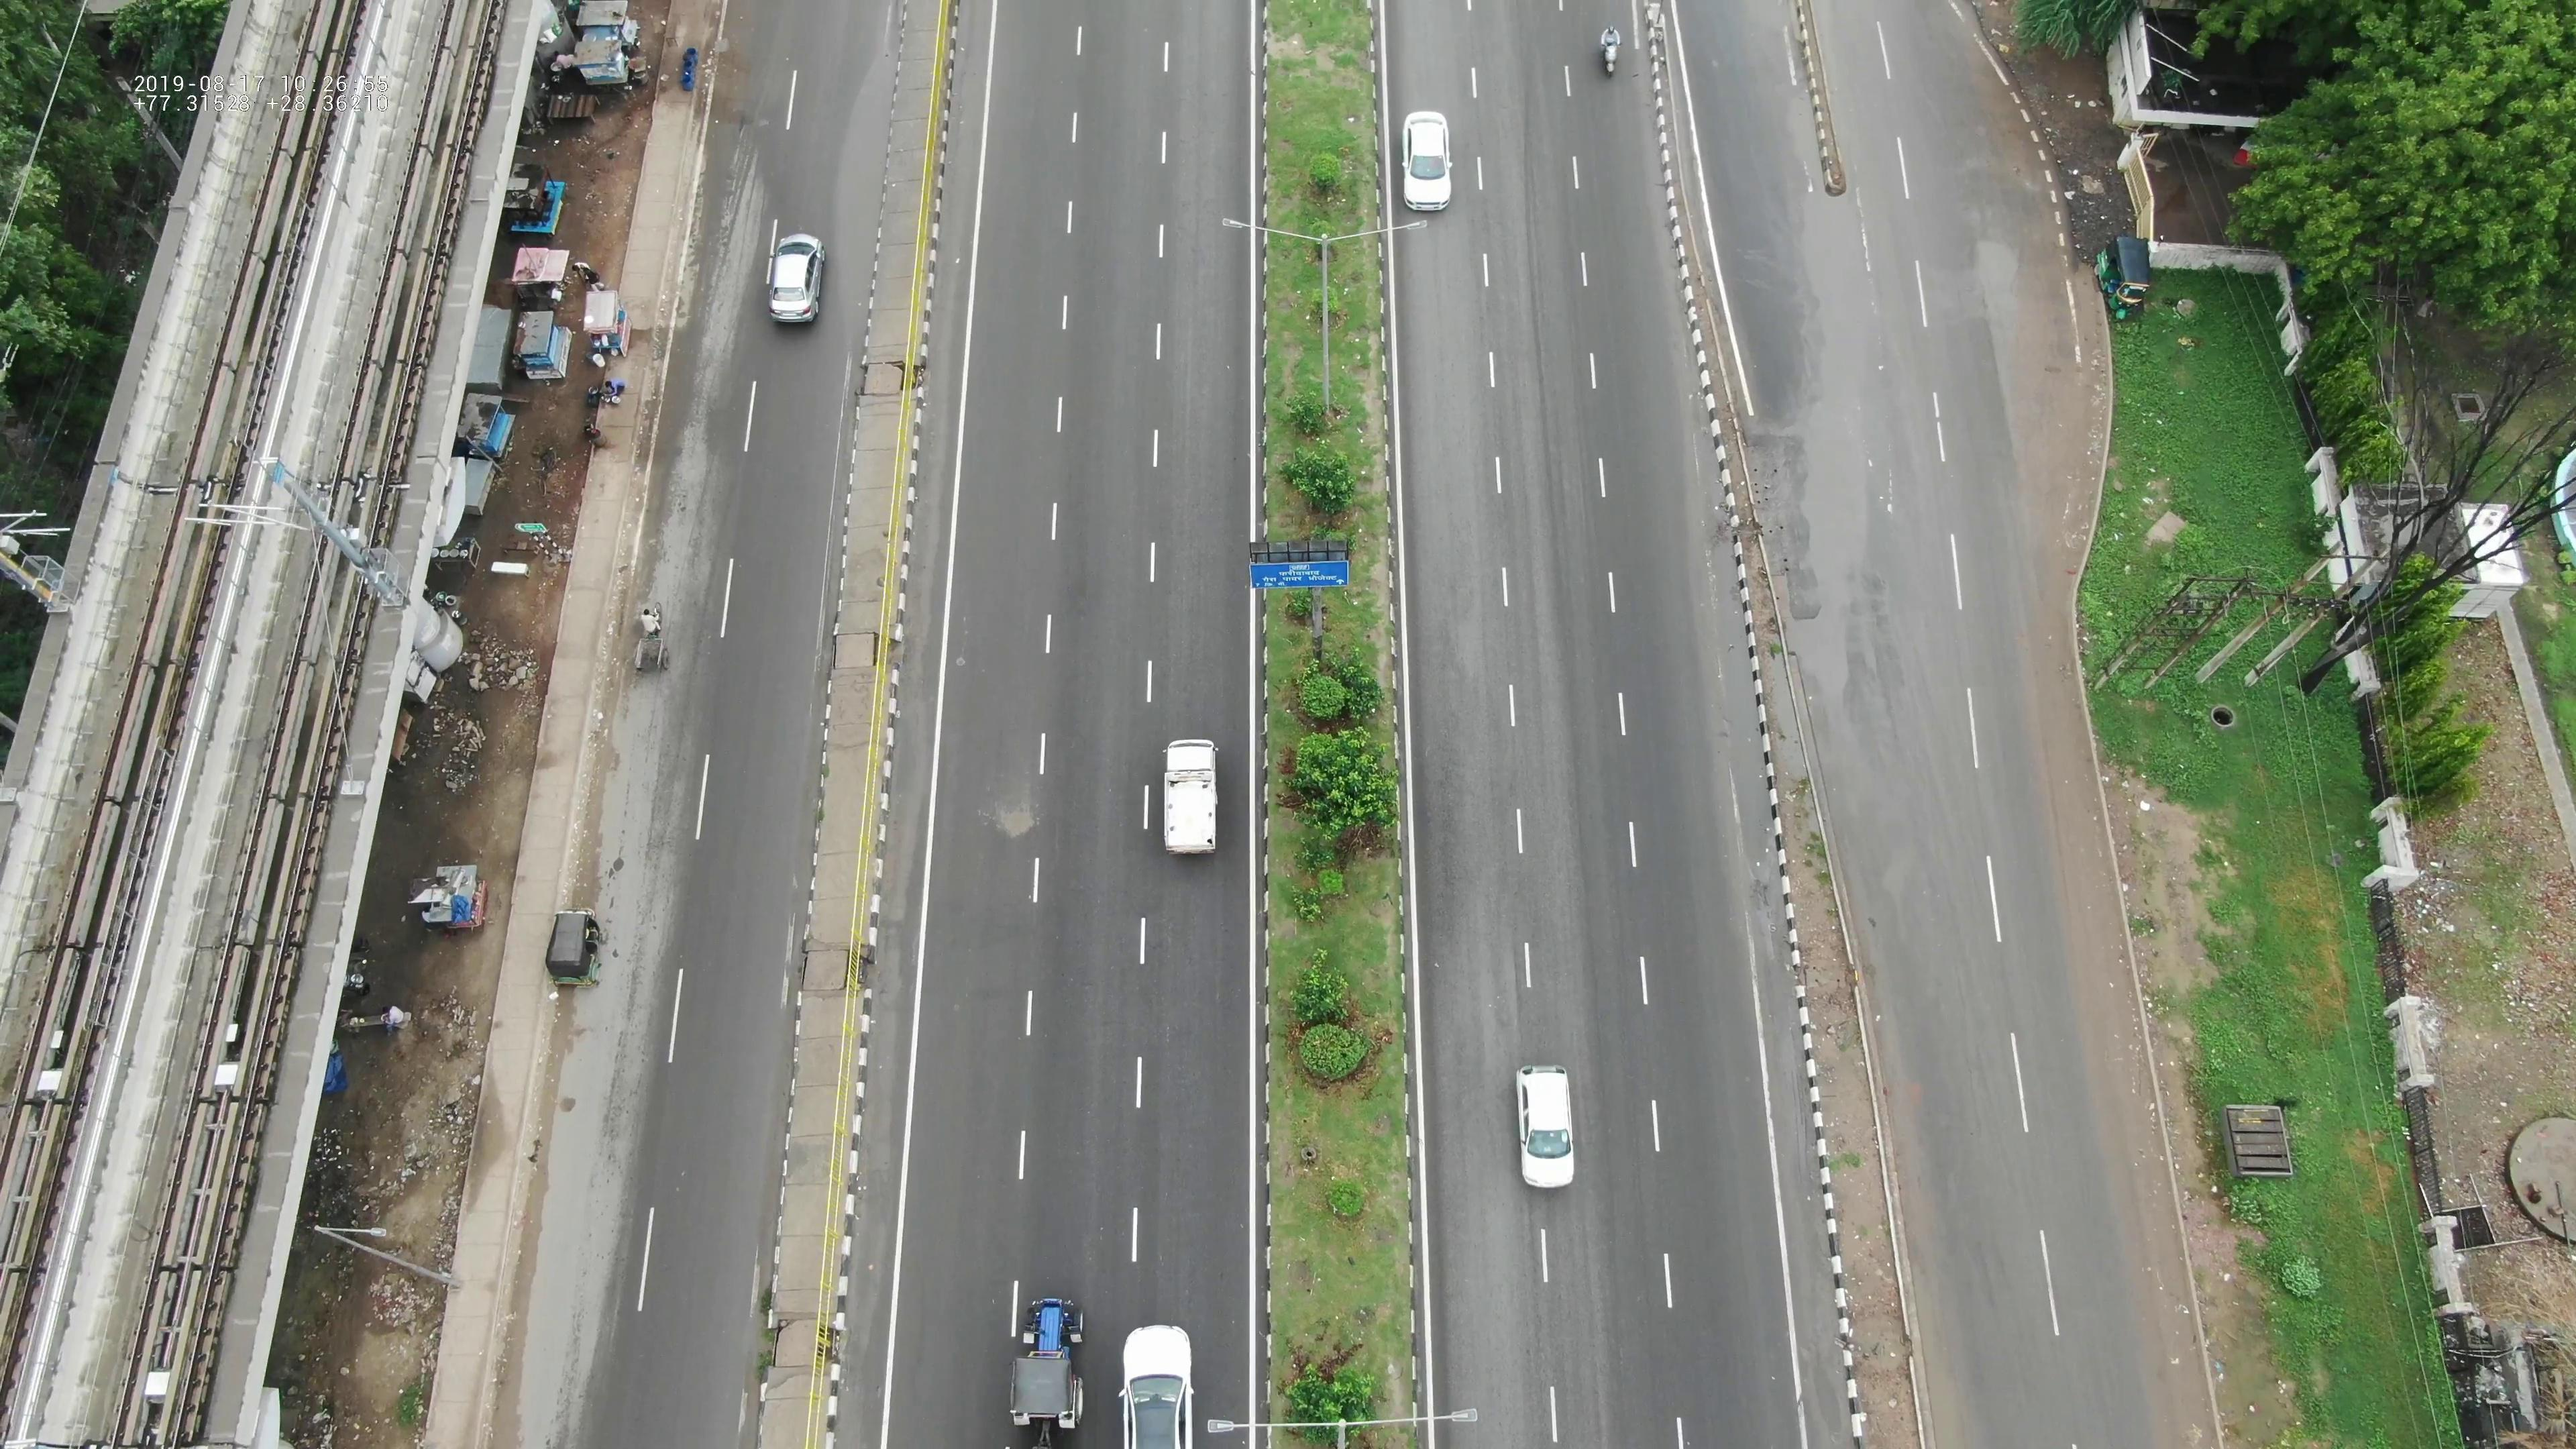Potholes: (1967, 223, 2033, 356)
Waterlogging: (1782, 327, 1867, 695)
